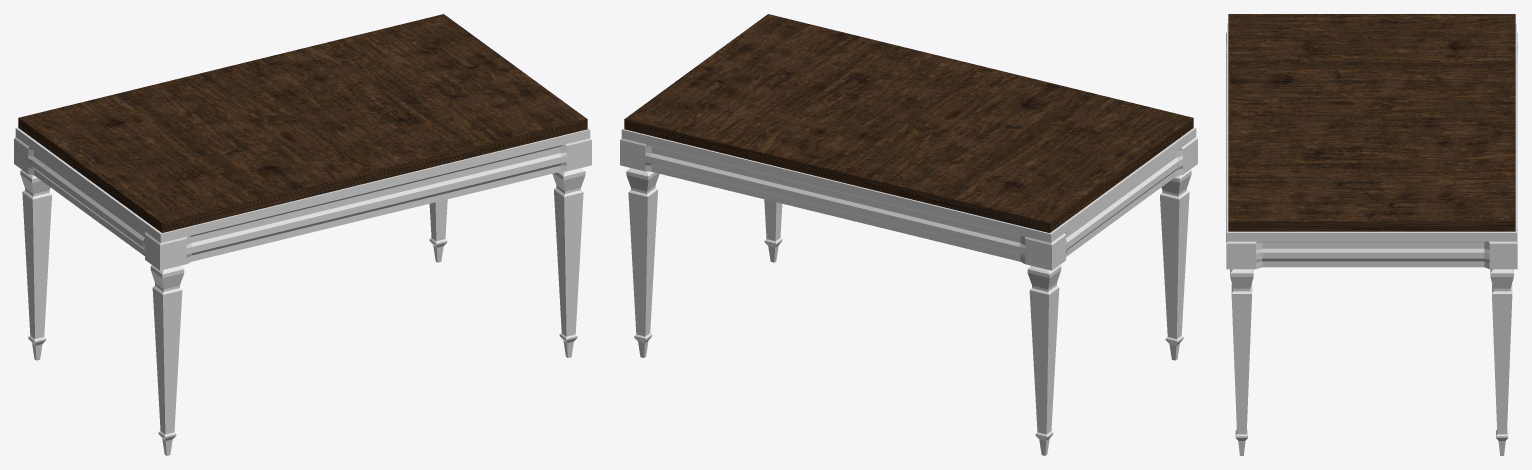
File: Stol.fbx
3 renders of one model, left to right at view 1: azimuth 30°, elevation 25°; view 2: azimuth 150°, elevation 25°; view 3: azimuth 270°, elevation 25°, orthographic.
Visible parts, largest first — view 1: Cube, Cube.001, Kostka; view 2: Cube, Cube.001, Kostka; view 3: Cube, Cube.001, Kostka.
Part boxes in pixels (x1=…): Cube: x1=18, y1=14, x2=587, y2=232; Cube.001: x1=14, y1=127, x2=591, y2=270; Kostka: x1=20, y1=168, x2=585, y2=455; Cube: x1=624, y1=14, x2=1193, y2=232; Cube.001: x1=620, y1=127, x2=1197, y2=270; Kostka: x1=626, y1=168, x2=1191, y2=455; Cube: x1=1228, y1=14, x2=1515, y2=231; Cube.001: x1=1226, y1=23, x2=1517, y2=269; Kostka: x1=1230, y1=269, x2=1513, y2=455.
Bounding box in the file's own units: 462 × 245 × 270.
